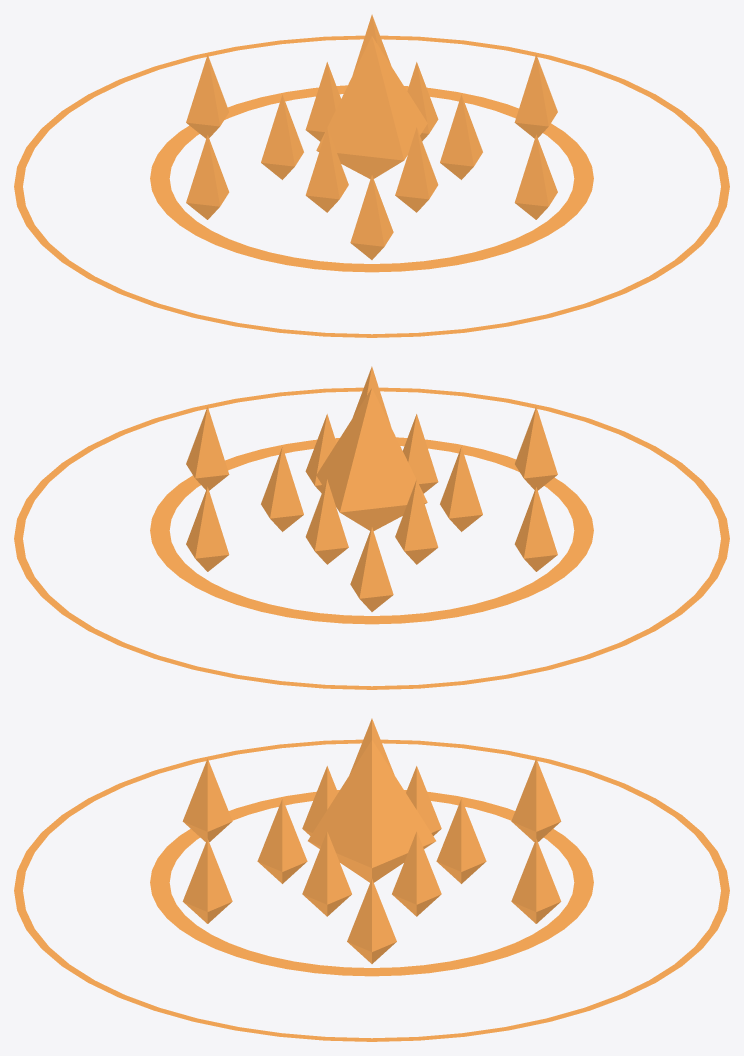
File: cannon.glb
3 renders of one model, top to bottom at view 1: azimuth 30°, elevation 25°; view 2: azimuth 150°, elevation 25°; view 3: azimuth 270°, elevation 25°, orthographic.
Parts seen in each view (by area): view 1: cannon_ultimate; view 2: cannon_ultimate; view 3: cannon_ultimate.
Part boxes in pixels (x1,y1,x2,y2): cannon_ultimate: (14, 14, 729, 337); cannon_ultimate: (14, 366, 729, 689); cannon_ultimate: (14, 718, 729, 1041).
Size of the model in its own units: 2 by 0.465 by 2.
